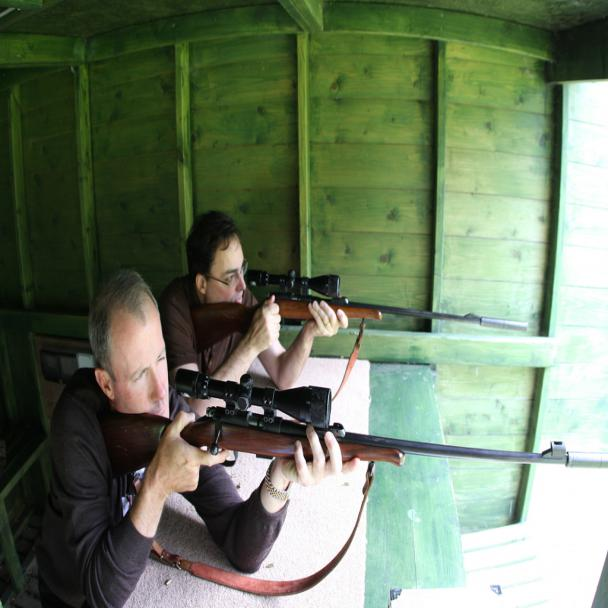Gun: (113, 368, 608, 499), (194, 264, 538, 358)
Hand: (137, 405, 218, 528), (271, 433, 366, 516), (235, 292, 292, 376), (304, 301, 360, 359)
